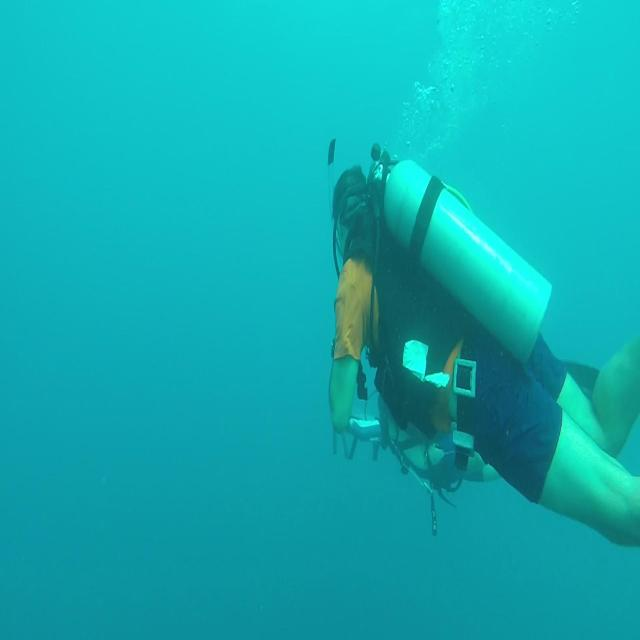human: (329, 142, 639, 547)
